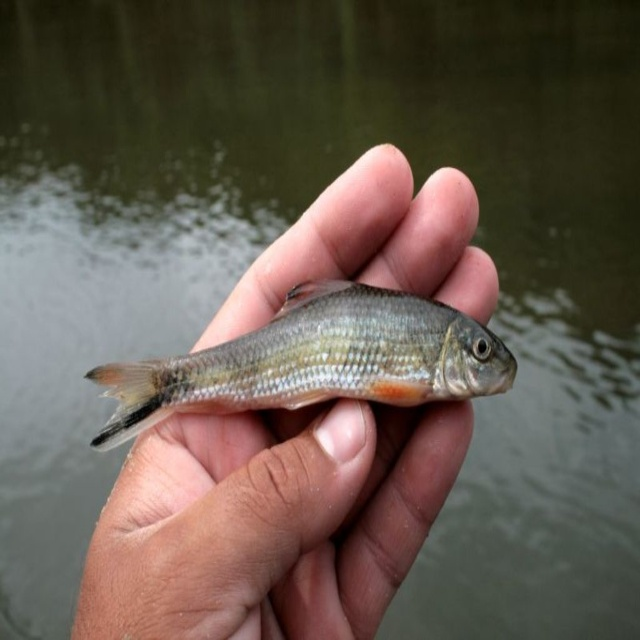Fish: (82, 276, 515, 454)
